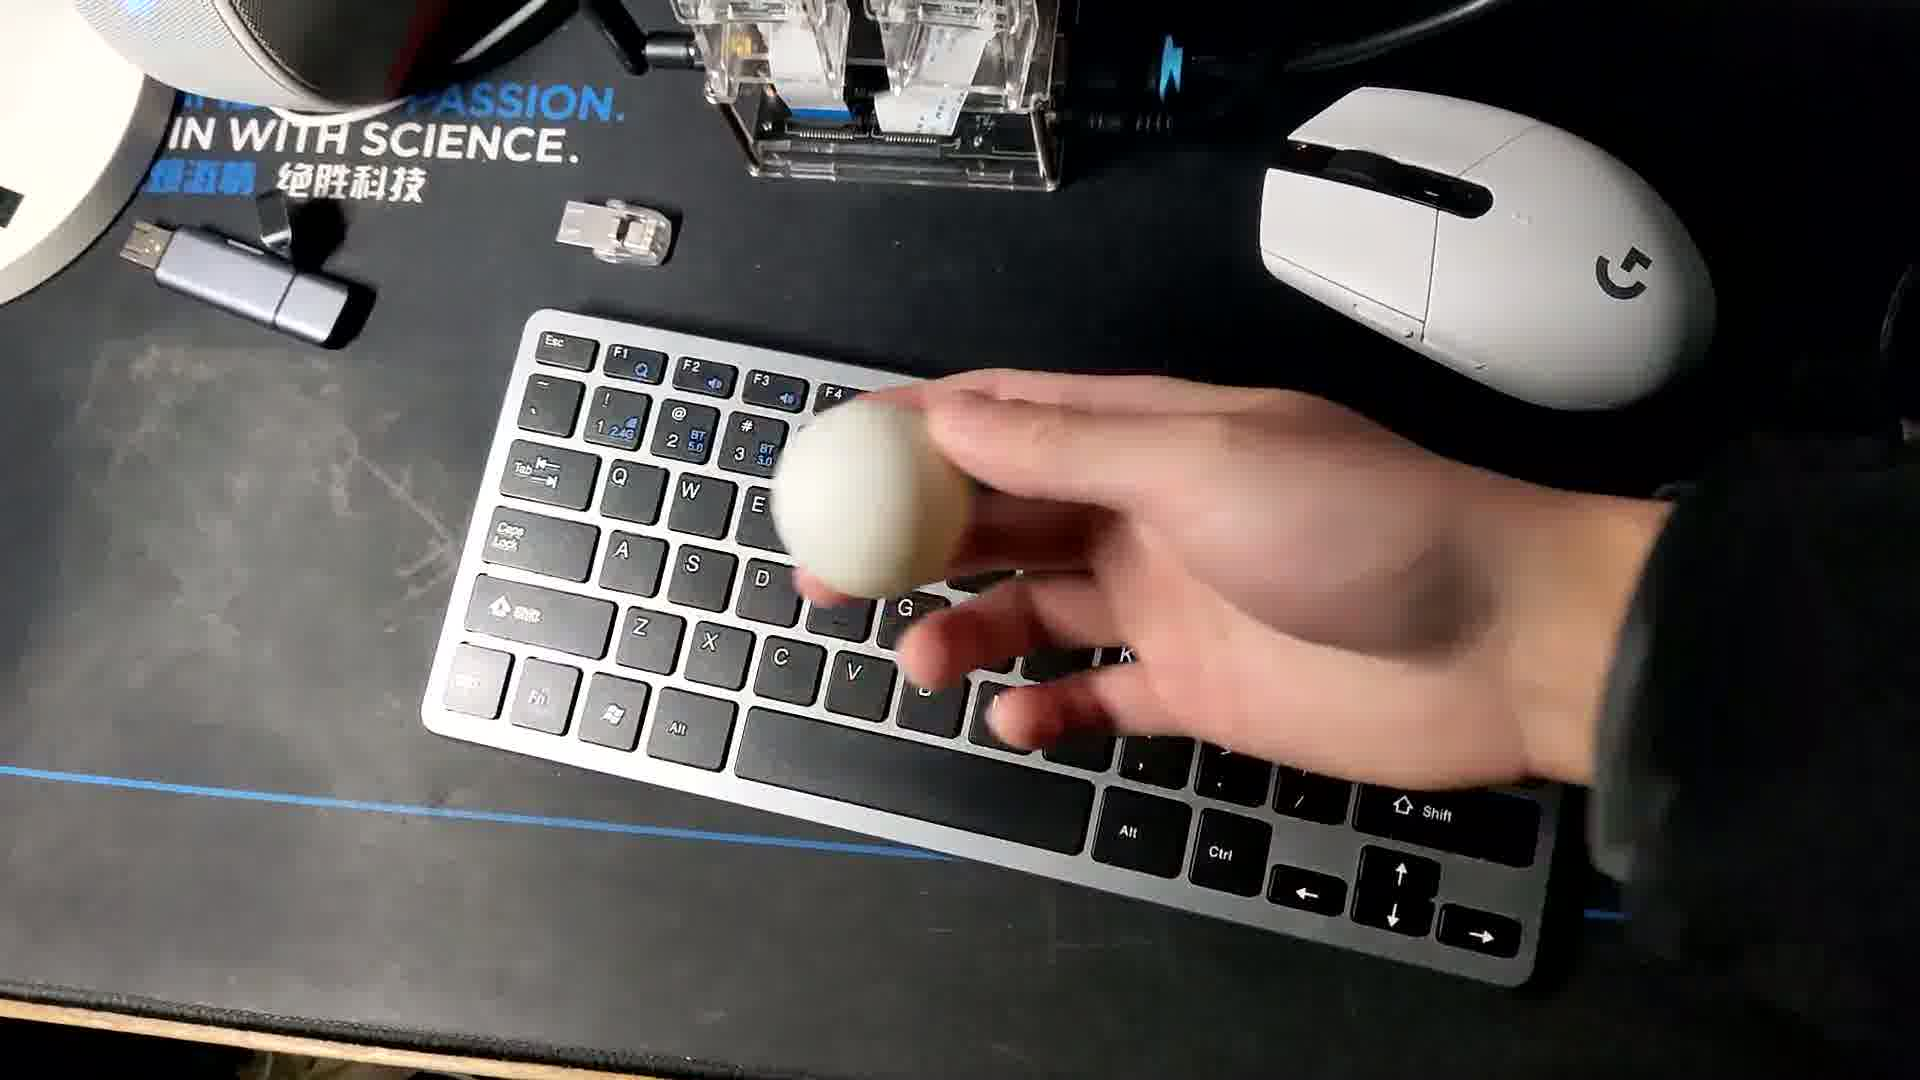Ball: (773, 402, 961, 591)
